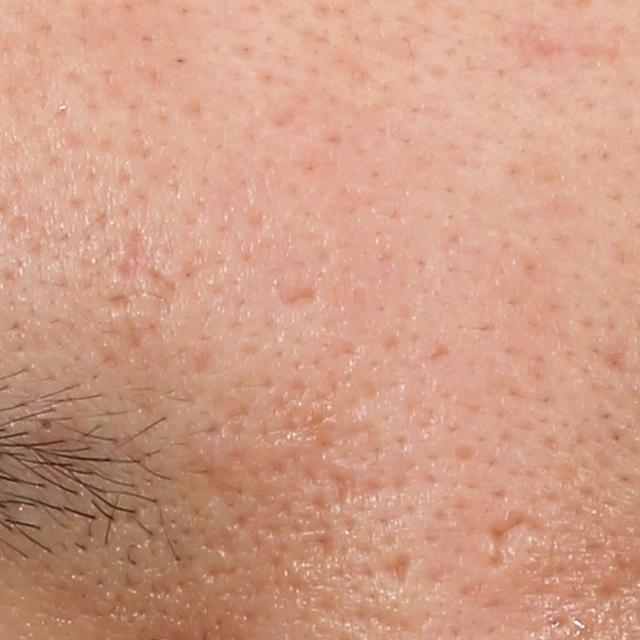atrophic_scar: (113, 225, 181, 295), (483, 512, 533, 571), (379, 543, 416, 590), (277, 286, 316, 308)
comedo: (32, 412, 61, 434)
